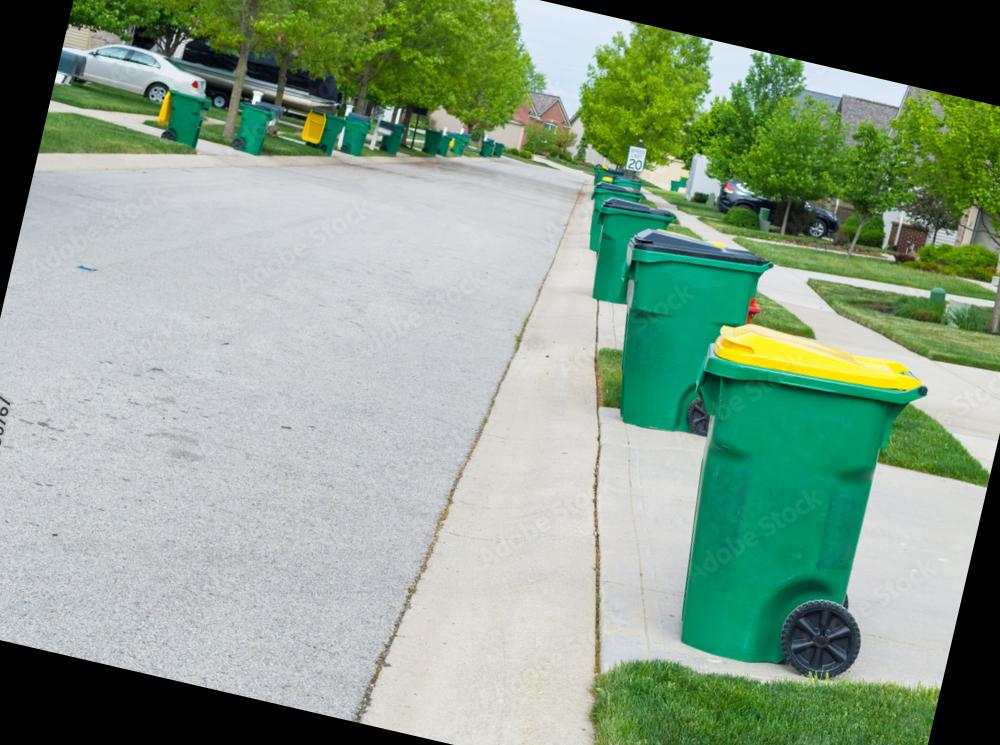garbage bin: (681, 322, 927, 677), (620, 256, 764, 429), (592, 196, 674, 303), (589, 180, 644, 250), (162, 89, 212, 145), (232, 102, 275, 154), (306, 113, 345, 154), (339, 111, 371, 155), (378, 119, 404, 154), (300, 109, 326, 143), (421, 128, 443, 154), (436, 134, 452, 155), (452, 133, 468, 154), (479, 139, 493, 156)
road: (0, 160, 579, 716)
